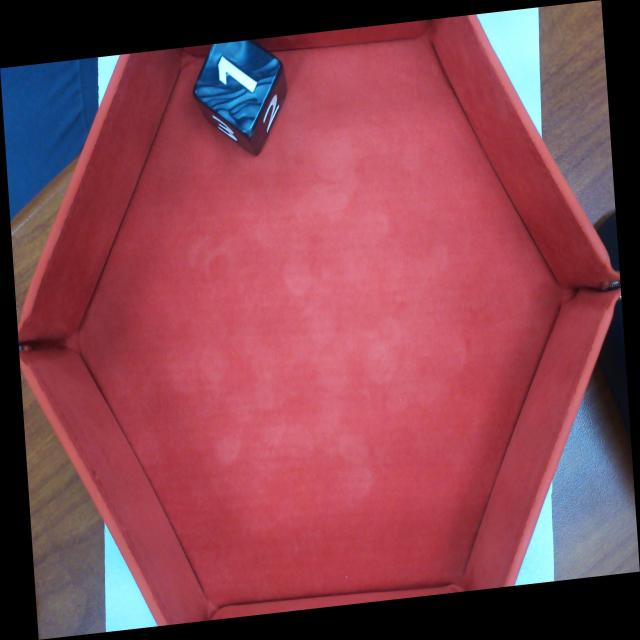dice: (189, 17, 284, 142)
